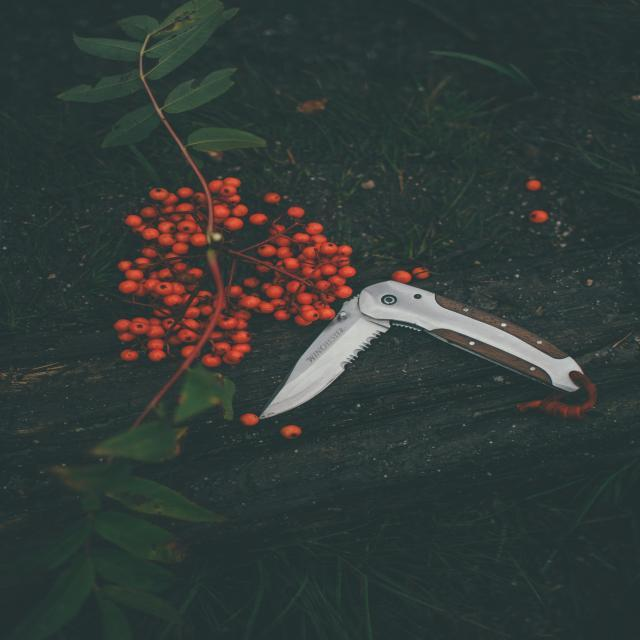Knife: (259, 281, 592, 420)
